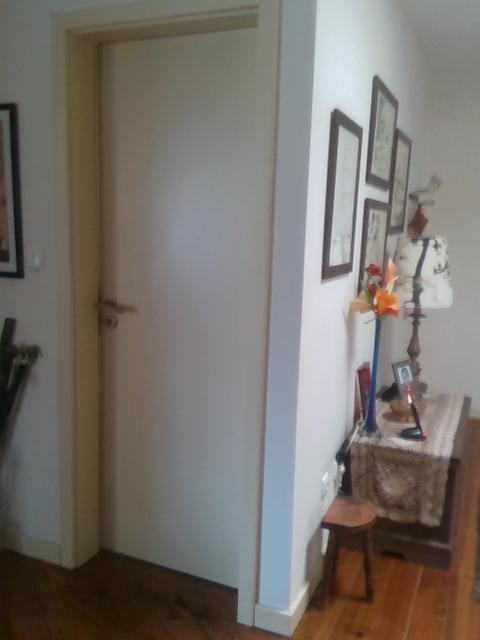door: (96, 24, 255, 591)
